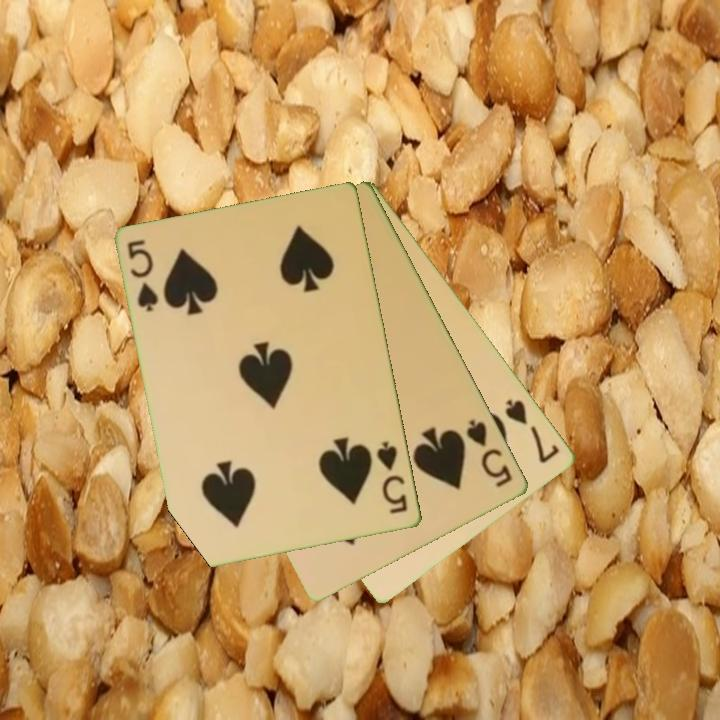5s: (463, 416, 516, 490), (373, 438, 411, 517), (124, 236, 162, 315)
7s: (502, 395, 563, 467)
